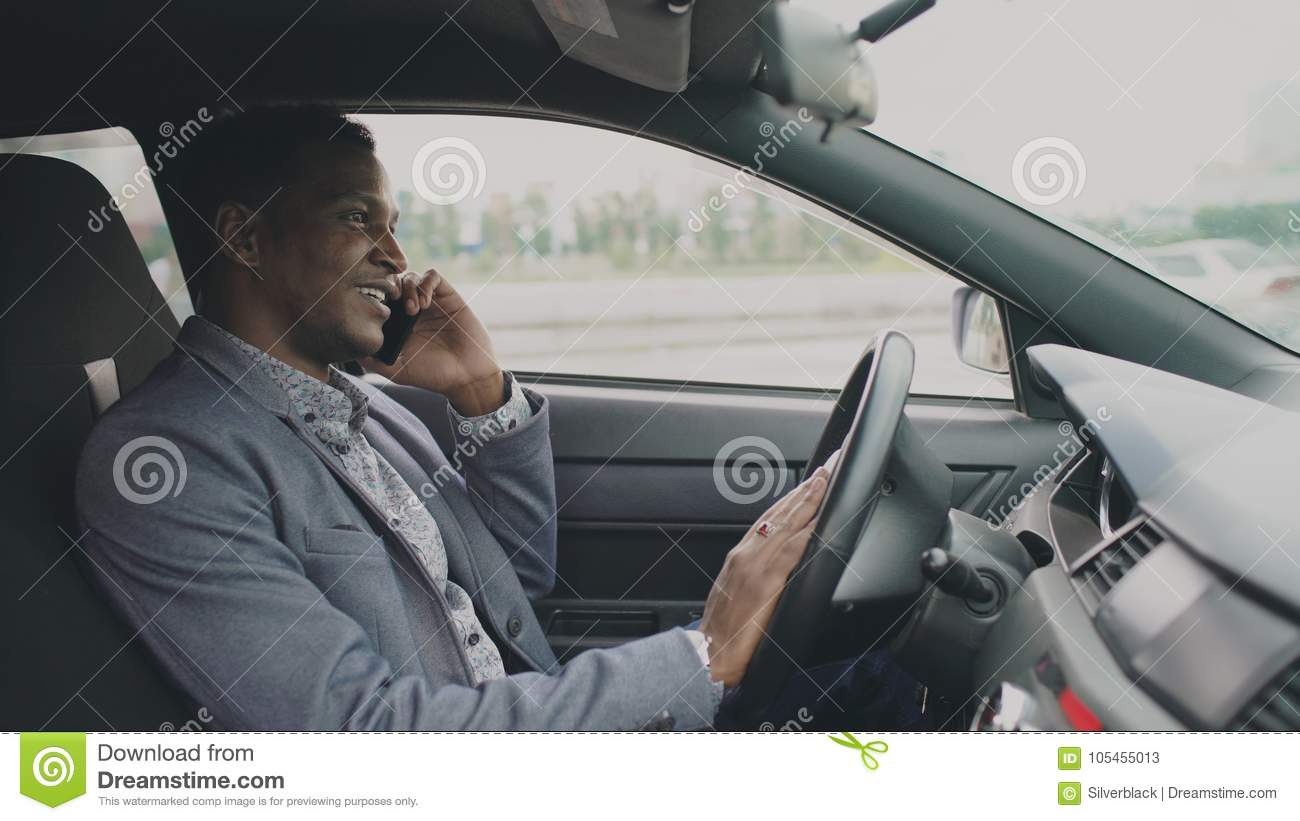phone: (373, 290, 426, 364)
talk: (307, 187, 510, 402)
